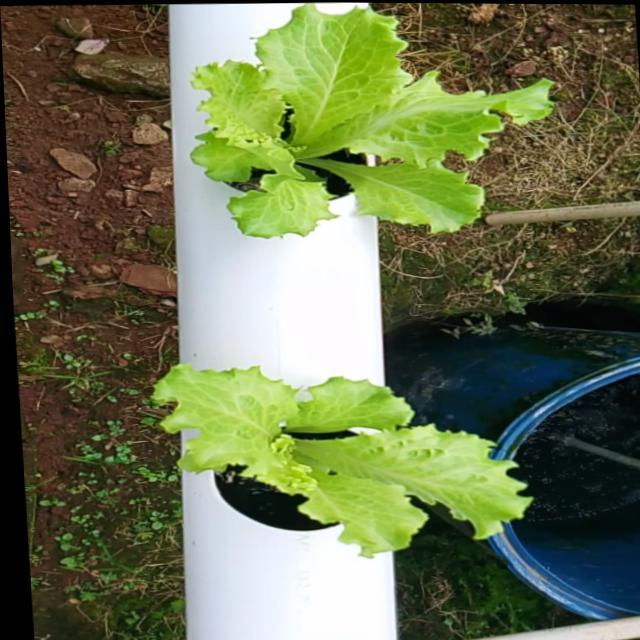Baby: (188, 2, 551, 237), (152, 368, 530, 562)
